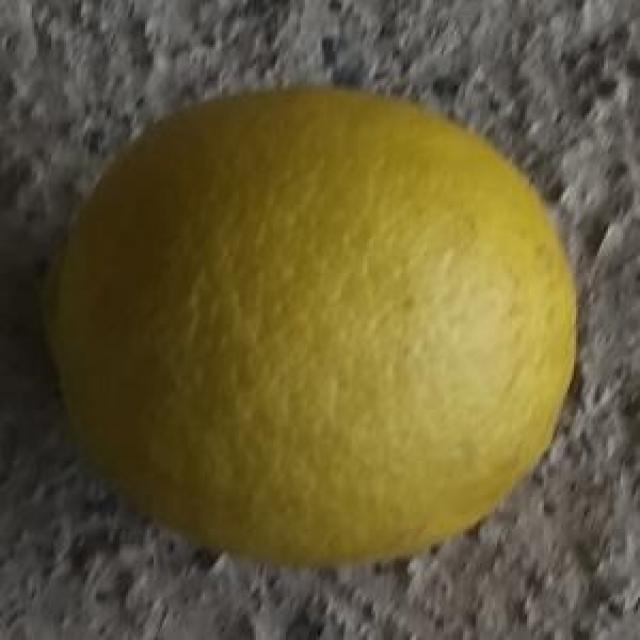lemon: (34, 85, 580, 573)
